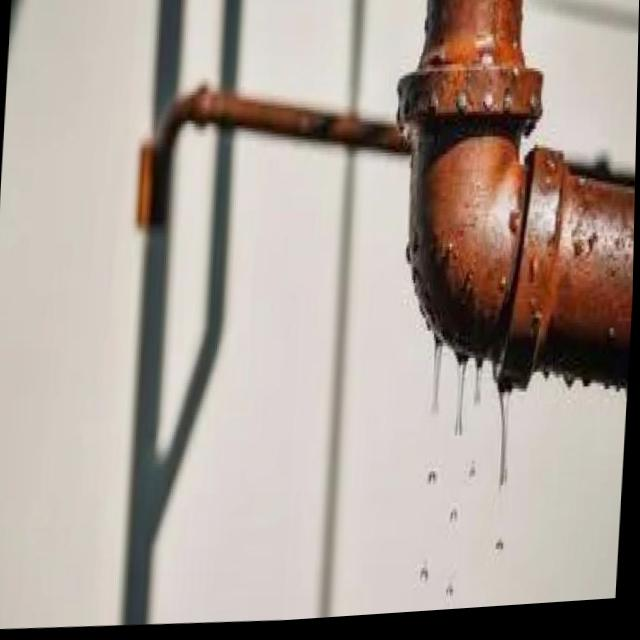leak: (399, 282, 537, 608)
